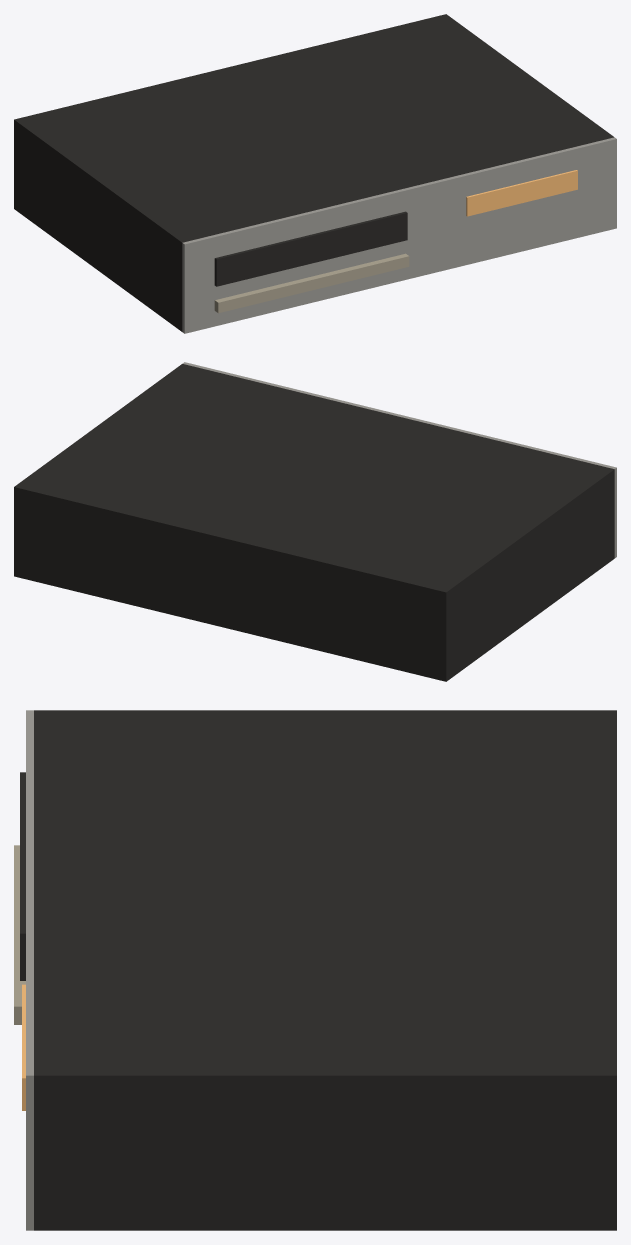
Rendered from vcr.glb.
The picture shows the model from 3 angles, top to bottom: view 1: azimuth 30°, elevation 25°; view 2: azimuth 150°, elevation 25°; view 3: azimuth 270°, elevation 25°; orthographic projection. The views are drawn at different scales.
Parts seen in each view (by area): view 1: plastic-dark, brushed, plastic-light, emissive-warm; view 2: plastic-dark, brushed; view 3: plastic-dark, brushed, plastic-light.
Boxes of the visible parts, x1,y1,x2,y2 form: plastic-dark: (14, 14, 613, 331); brushed: (182, 137, 616, 333); plastic-light: (214, 253, 409, 313); emissive-warm: (466, 170, 577, 216); plastic-dark: (14, 364, 614, 681); brushed: (182, 362, 616, 558); plastic-dark: (20, 710, 616, 1230); brushed: (26, 710, 33, 1230); plastic-light: (14, 845, 25, 1024).
Size of the model in its own units: 0.43 by 0.095 by 0.3.
